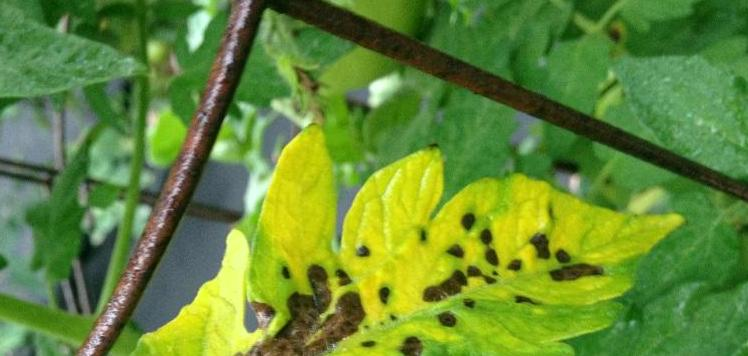Tomato leaf bacterial spot: (107, 122, 700, 356)
